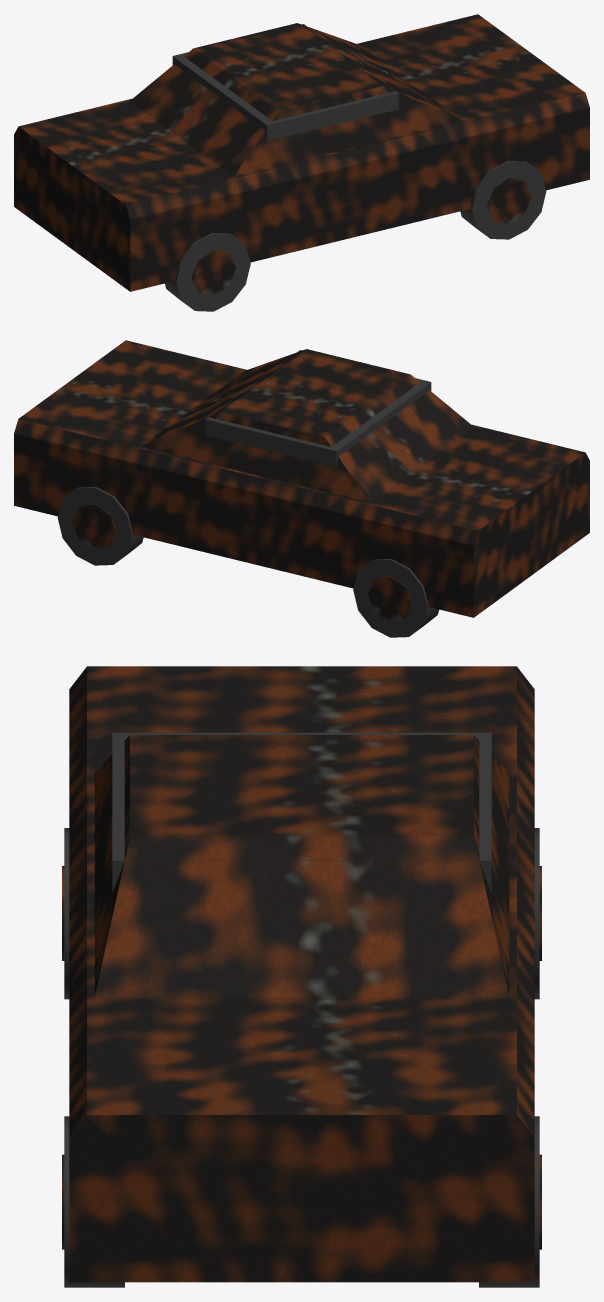
The model's file is car.glb.
The picture shows the model from 3 angles, top to bottom: view 1: azimuth 30°, elevation 25°; view 2: azimuth 150°, elevation 25°; view 3: azimuth 270°, elevation 25°; orthographic projection. The views are drawn at different scales.
Parts seen in each view (by area): view 1: car, dark; view 2: car, dark; view 3: car, dark.
Boxes of the visible parts, bbox=[...] form: car: bbox=[14, 14, 589, 295]; dark: bbox=[164, 24, 546, 311]; car: bbox=[14, 340, 589, 621]; dark: bbox=[57, 350, 439, 637]; car: bbox=[62, 666, 541, 1282]; dark: bbox=[64, 732, 539, 1287].
Size of the model in its own units: 4.2 by 1.47 by 1.9.
2 materials, 1 textured.
